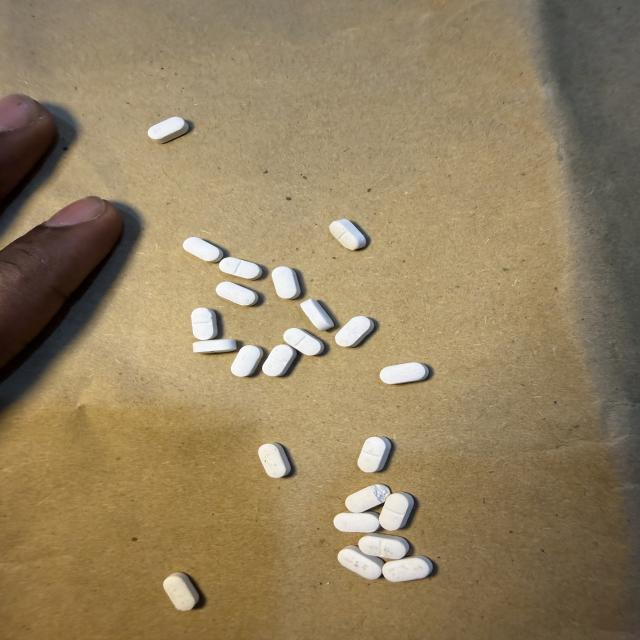pill: (338, 546, 383, 579), (163, 573, 199, 610), (383, 556, 432, 582), (359, 534, 409, 559), (346, 484, 390, 512), (380, 493, 413, 530), (335, 316, 373, 346), (258, 443, 290, 478), (358, 437, 390, 472), (330, 219, 366, 250), (284, 328, 324, 355), (262, 345, 296, 376), (148, 117, 188, 143), (380, 363, 428, 384), (216, 282, 258, 306), (183, 237, 223, 262), (301, 299, 333, 330), (231, 346, 263, 376), (219, 257, 262, 279), (334, 512, 379, 533), (272, 267, 300, 299), (191, 308, 217, 340), (192, 339, 236, 354)
